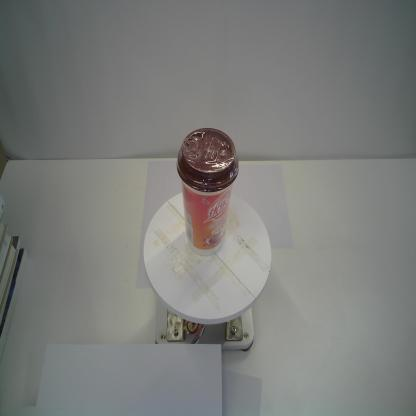Instant Drink: (176, 128, 240, 257)
